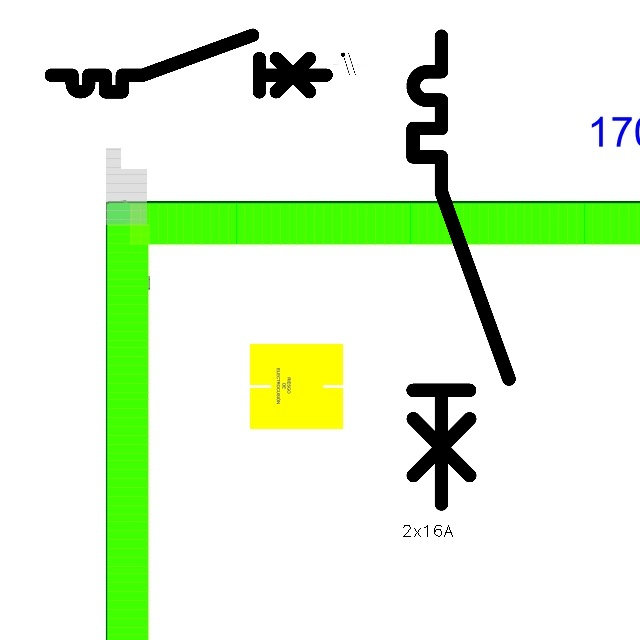interruptor_termomagnetico: (401, 24, 521, 516), (44, 28, 333, 99)
